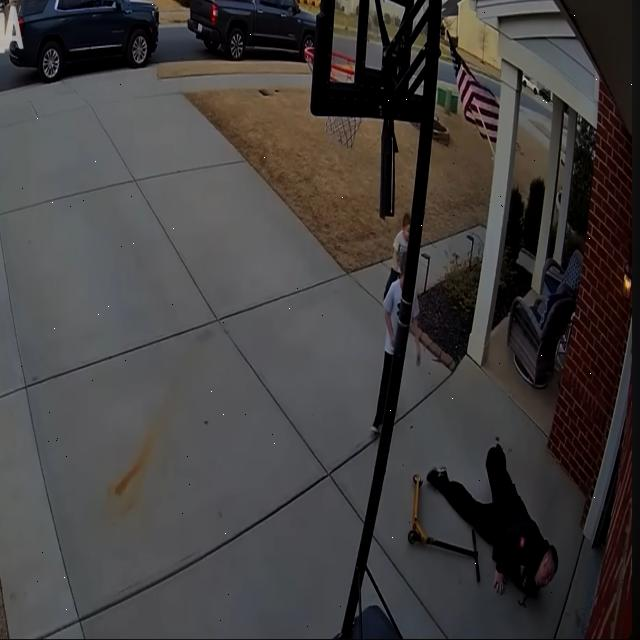fallen: (427, 444, 559, 601)
